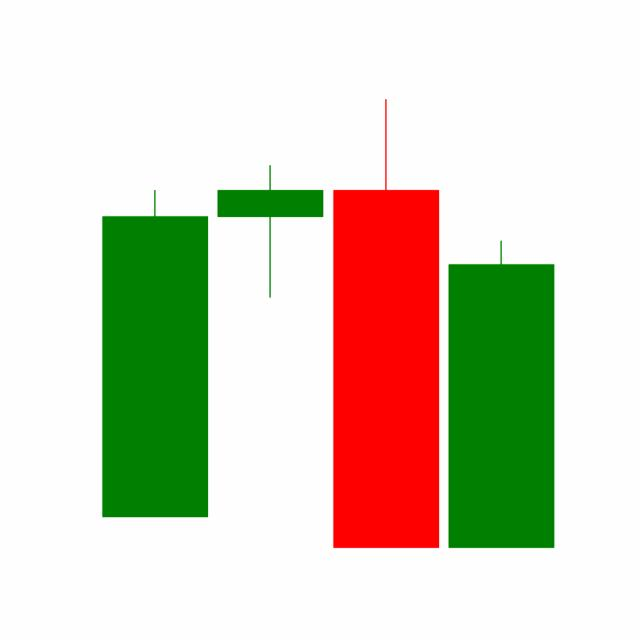Marubozu: (443, 237, 559, 550)
